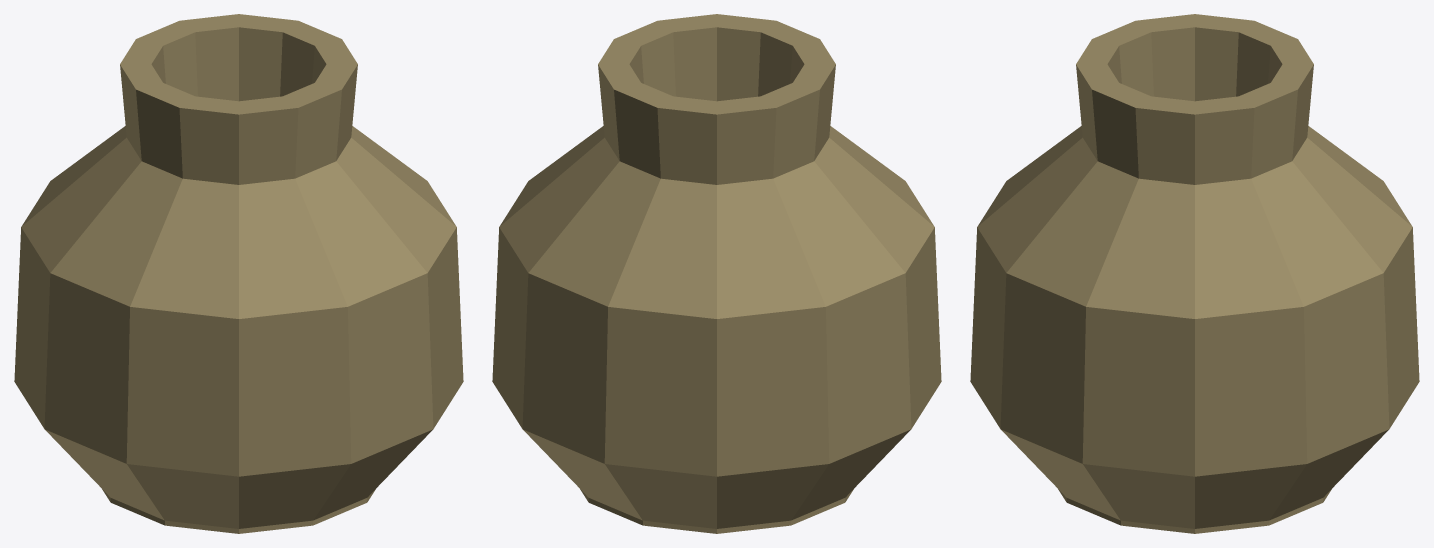
Rendered from tea-cup.glb.
3 renders of one model, left to right at view 1: azimuth 30°, elevation 25°; view 2: azimuth 150°, elevation 25°; view 3: azimuth 270°, elevation 25°, orthographic.
Visible parts, largest first — view 1: tea-cup__body; view 2: tea-cup__body; view 3: tea-cup__body.
Part boxes in pixels (x1,y1,x2,y2): tea-cup__body: (14,14,463,533); tea-cup__body: (492,14,941,533); tea-cup__body: (970,14,1419,533).
Bounding box in the file's own units: 0.12 × 0.12 × 0.12.
